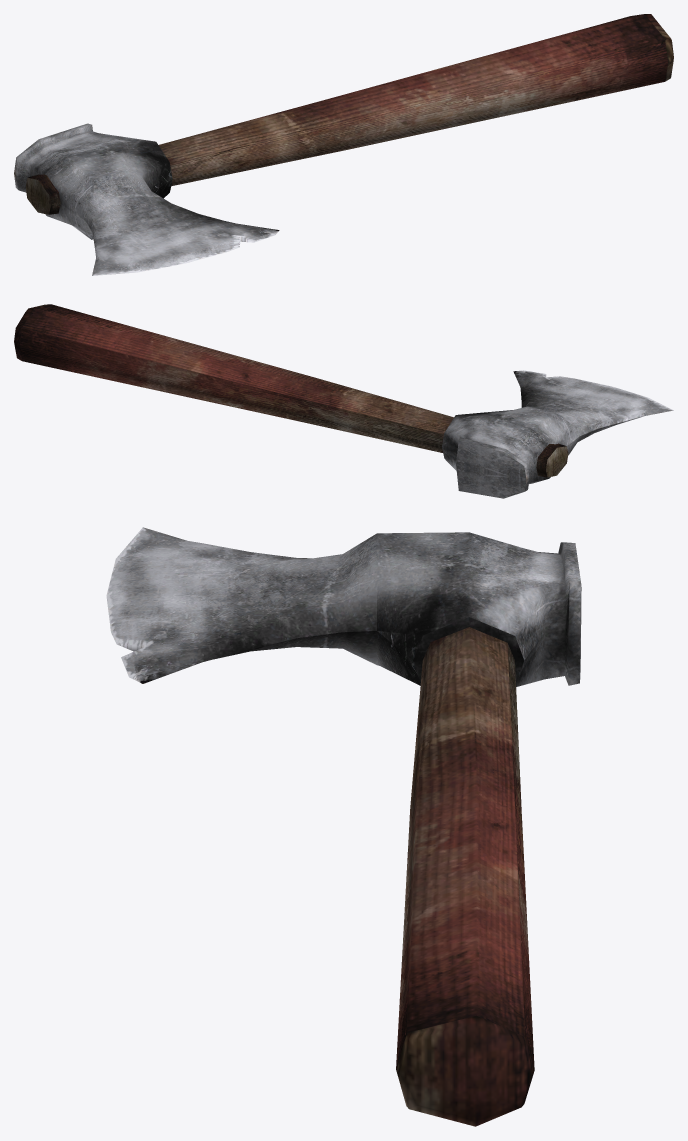
The model's file is axe.obj.
The picture shows the model from 3 angles, top to bottom: view 1: azimuth 30°, elevation 25°; view 2: azimuth 150°, elevation 25°; view 3: azimuth 270°, elevation 25°; orthographic projection. The views are drawn at different scales.
Visible parts, largest first — view 1: Axe_Tomahawk; view 2: Axe_Tomahawk; view 3: Axe_Tomahawk.
Part boxes in pixels (left/top/right/bottom): Axe_Tomahawk: left=14, top=14, right=673, bottom=275; Axe_Tomahawk: left=14, top=304, right=673, bottom=498; Axe_Tomahawk: left=106, top=527, right=581, bottom=1126.
Size of the model in its own units: 5.41 by 0.5066 by 1.95.
Materials: 1 (1 with a texture image).
